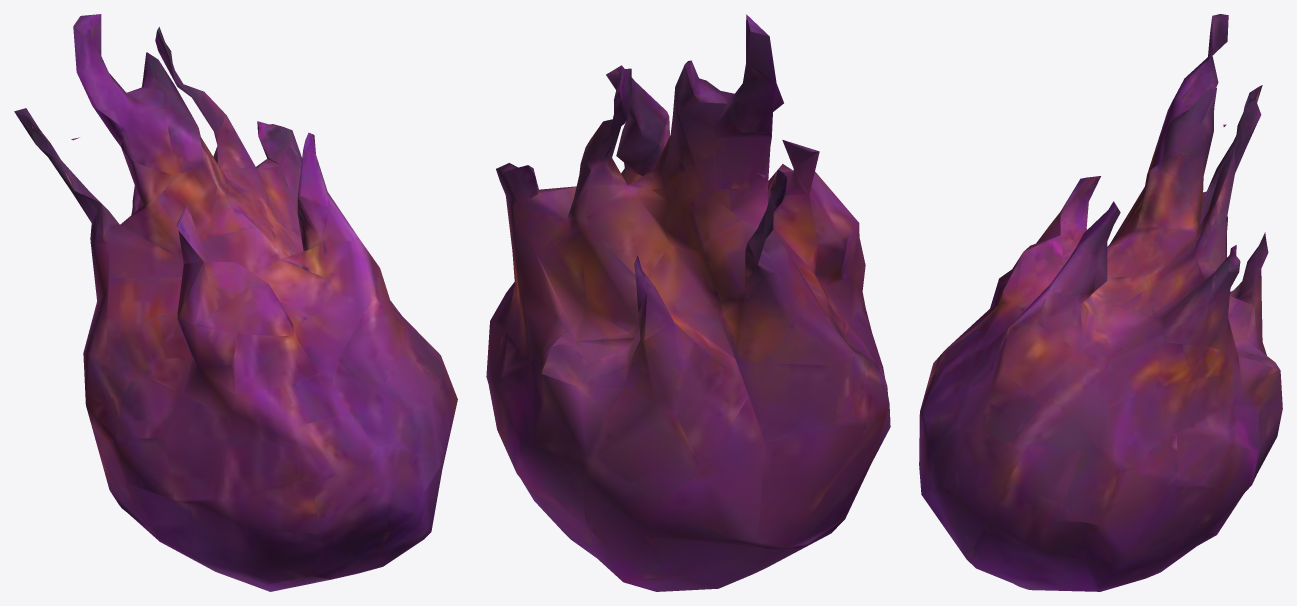
Rendered from proj_physical.glb.
3 renders of one model, left to right at view 1: azimuth 30°, elevation 25°; view 2: azimuth 150°, elevation 25°; view 3: azimuth 270°, elevation 25°, orthographic. The views are drawn at different scales.
Parts seen in each view (by area): view 1: Physical attack; view 2: Physical attack; view 3: Physical attack.
Part boxes in pixels (<box>): Physical attack: <box>14,14,457,591</box>; Physical attack: <box>486,14,890,591</box>; Physical attack: <box>919,14,1282,591</box>.
Size of the model in its own units: 1.19 by 1.89 by 1.23.
Materials: 1 (1 with a texture image).
